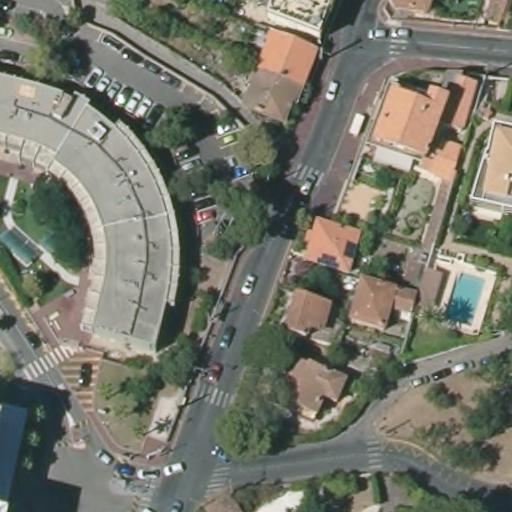pool: (446, 268, 485, 326)
